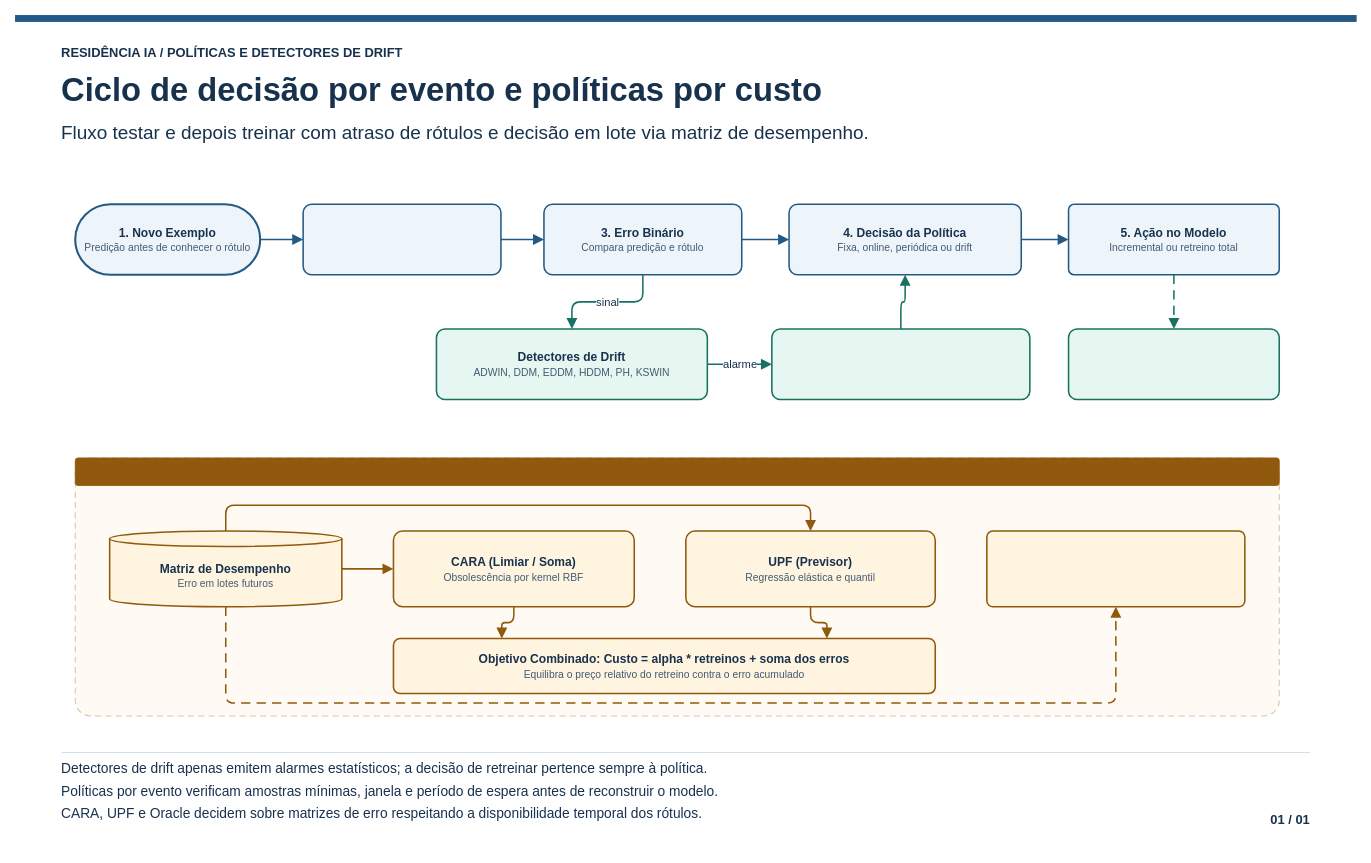
Image size: 1371x863. Some labels were removed from this diagram. Here are the shapes that lost their labels. From the top down, the centre of each, then its label:
(401,239): 2. Fila de Atraso Libera rótulo no instante previsto
(900,364): Guardas de Estabilidade Mínimo de amostras e espera
(1173,364): Validação de Promoção Promove só se superar o atual
(676,471): Políticas Sensíveis a Custo (Decisão em Lotes)
(1115,568): Oracle (Retrospectivo) Cronograma ótimo com futuro
